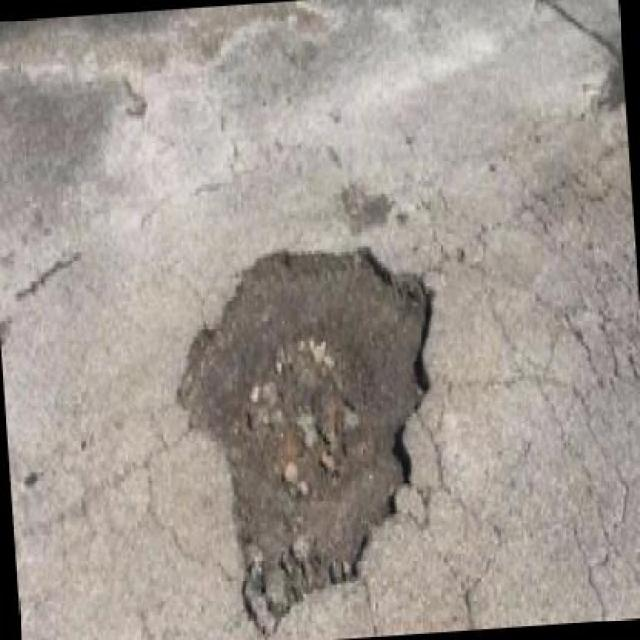pothole1: (162, 223, 462, 639)
